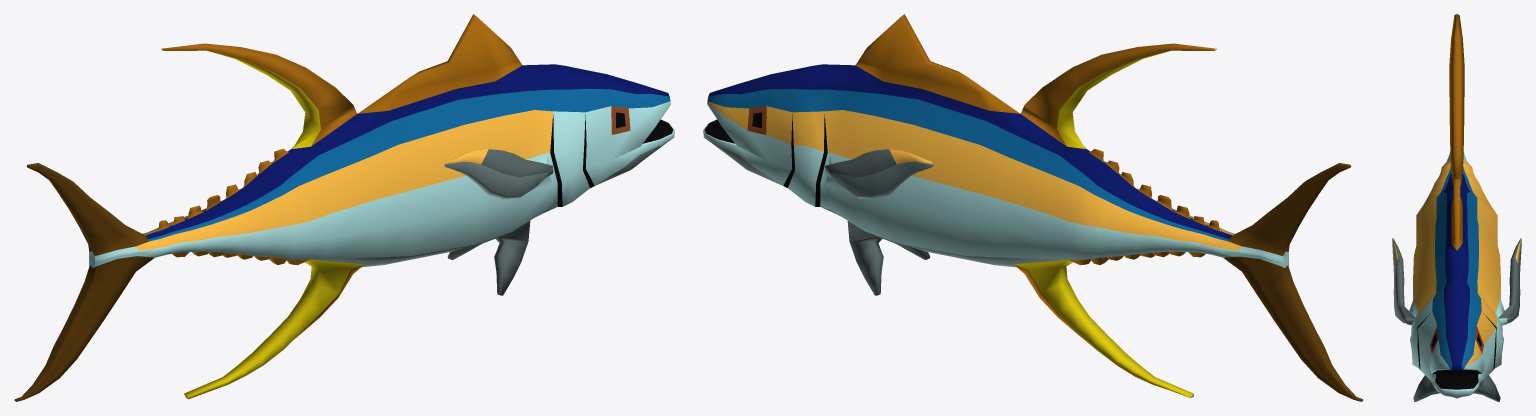
Rendered from tuna.glb.
3 renders of one model, left to right at view 1: azimuth 30°, elevation 25°; view 2: azimuth 150°, elevation 25°; view 3: azimuth 270°, elevation 25°, orthographic. The views are drawn at different scales.
Parts seen in each view (by area): view 1: Cube.065; view 2: Cube.065; view 3: Cube.065.
Part boxes in pixels (left/top/right/bottom): Cube.065: left=14, top=14, right=674, bottom=401; Cube.065: left=703, top=14, right=1363, bottom=401; Cube.065: left=1392, top=14, right=1521, bottom=401.
Size of the model in its own units: 1.68 by 0.8726 by 0.3421.
